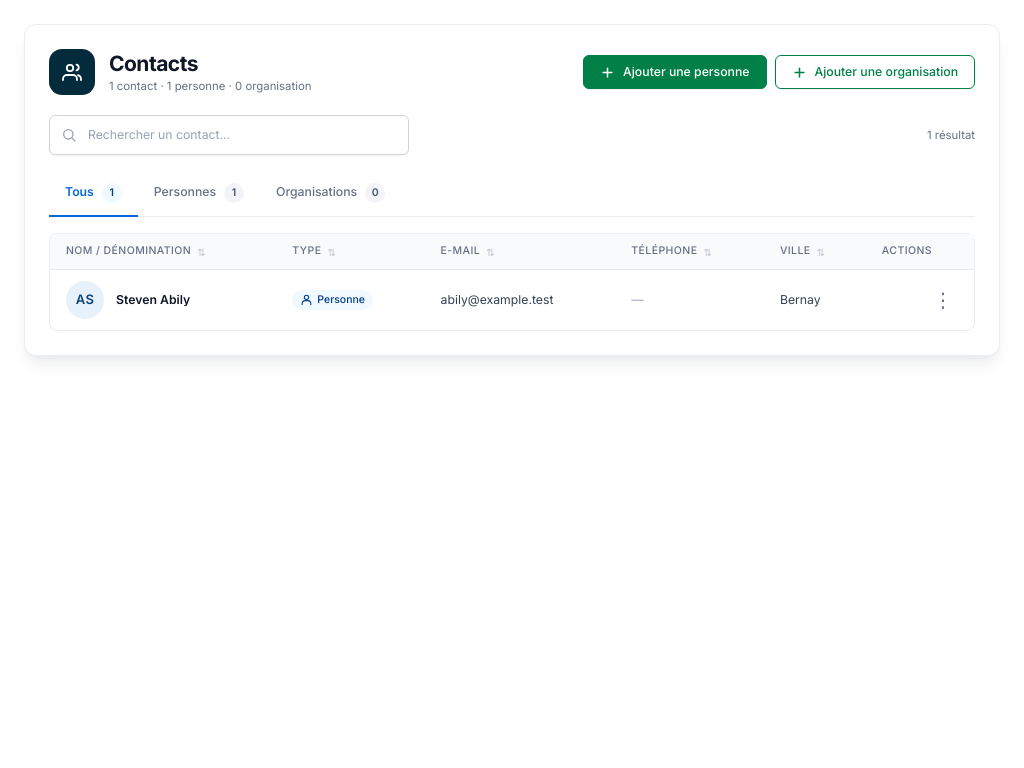
it: l’état vide permet de choisir puis lier réellement un dossier
expect the text "Steven Abily" is shown: met, box x1=116 y1=294 x2=190 y2=306
Click the button named "Actions du contact". click: point(943, 300)
box: x1=928 y1=285 x2=958 y2=315
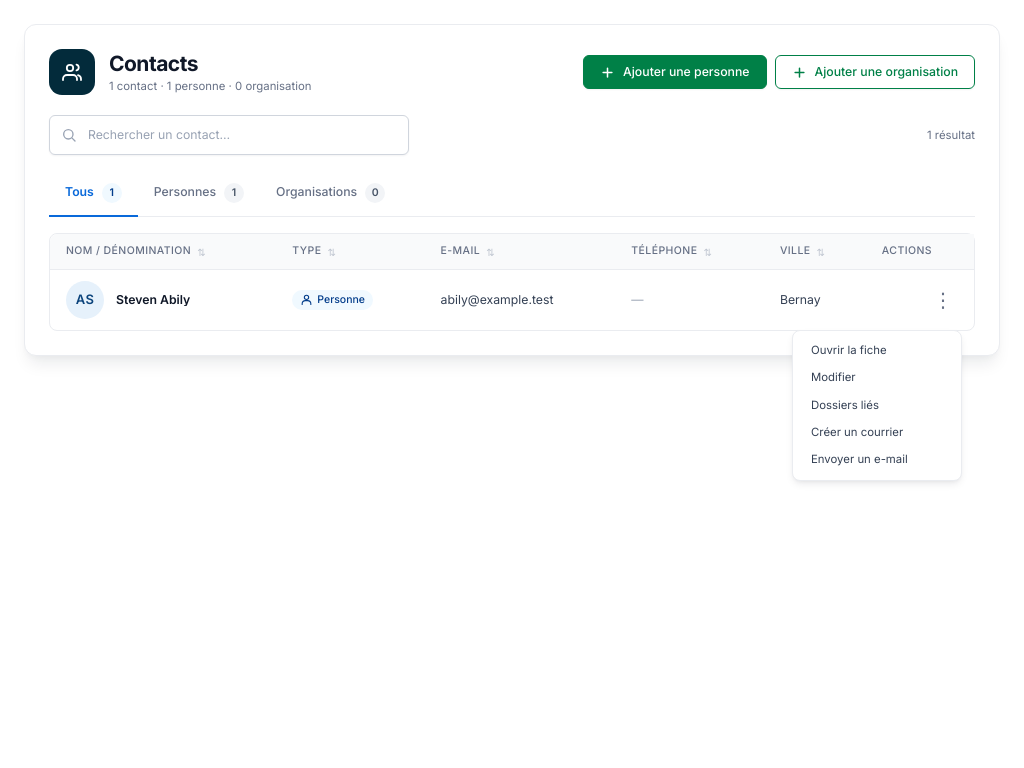
Click the button "Dossiers liés". click: point(877, 405)
box: x1=799 y1=392 x2=955 y2=419
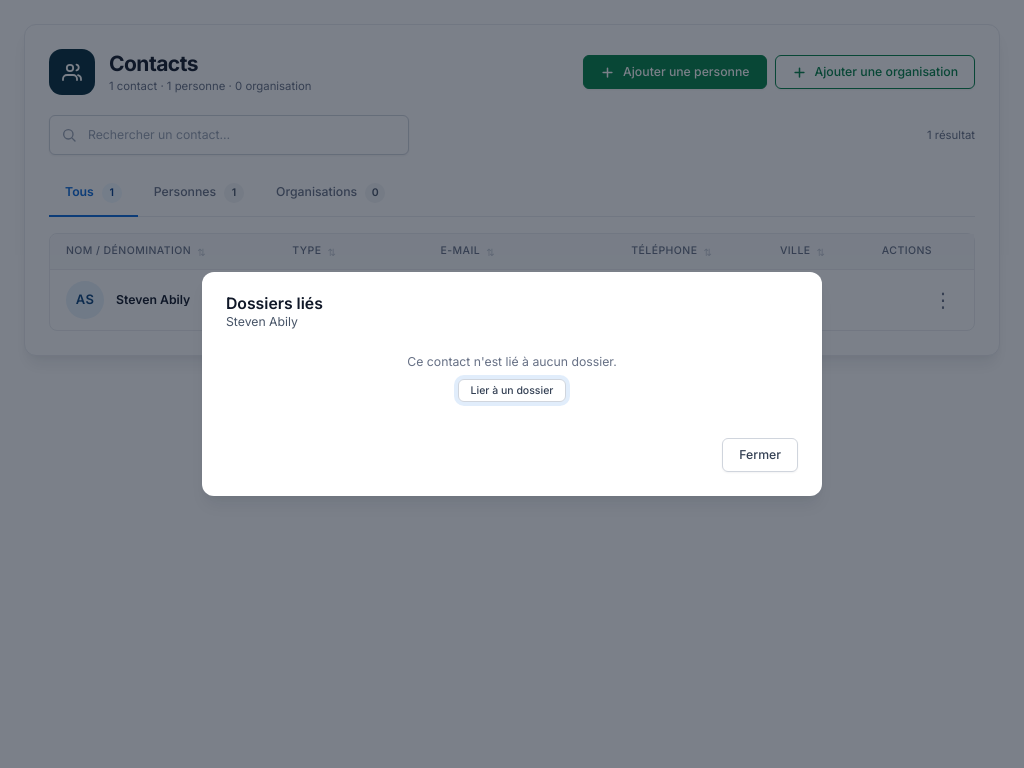
Click the button "Lier à un dossier". click: point(512, 391)
box: x1=458 y1=379 x2=566 y2=402
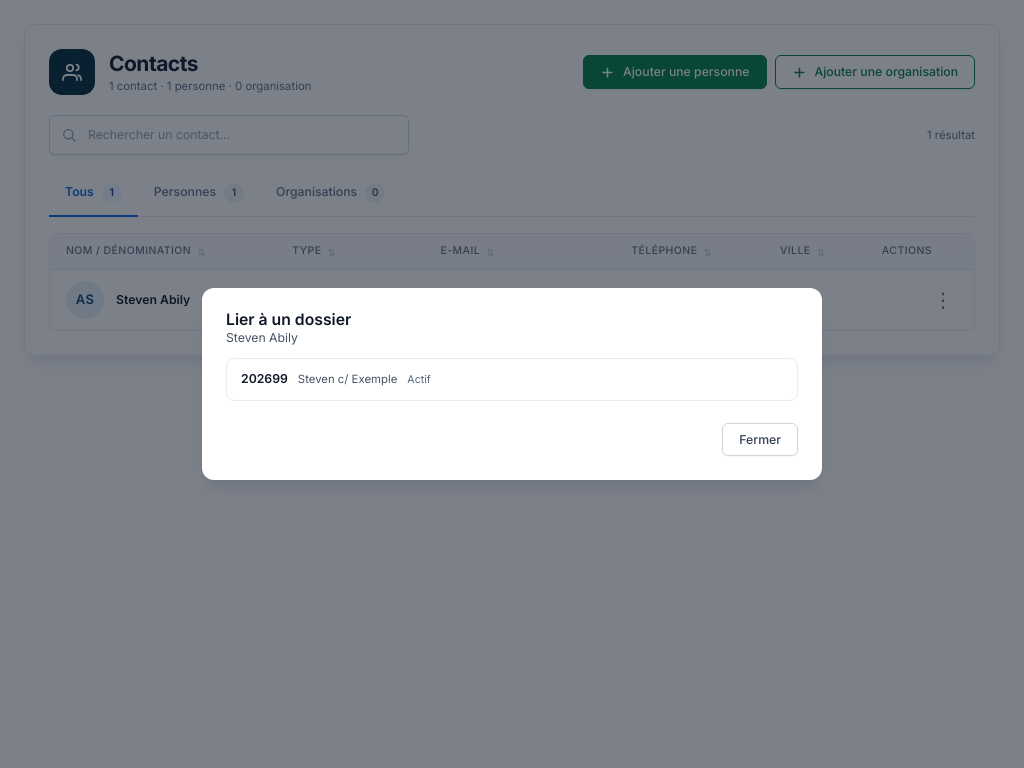
Click the button with aria-label "Lier le dossier 202699". click: point(336, 379)
box: x1=241 y1=371 x2=431 y2=386
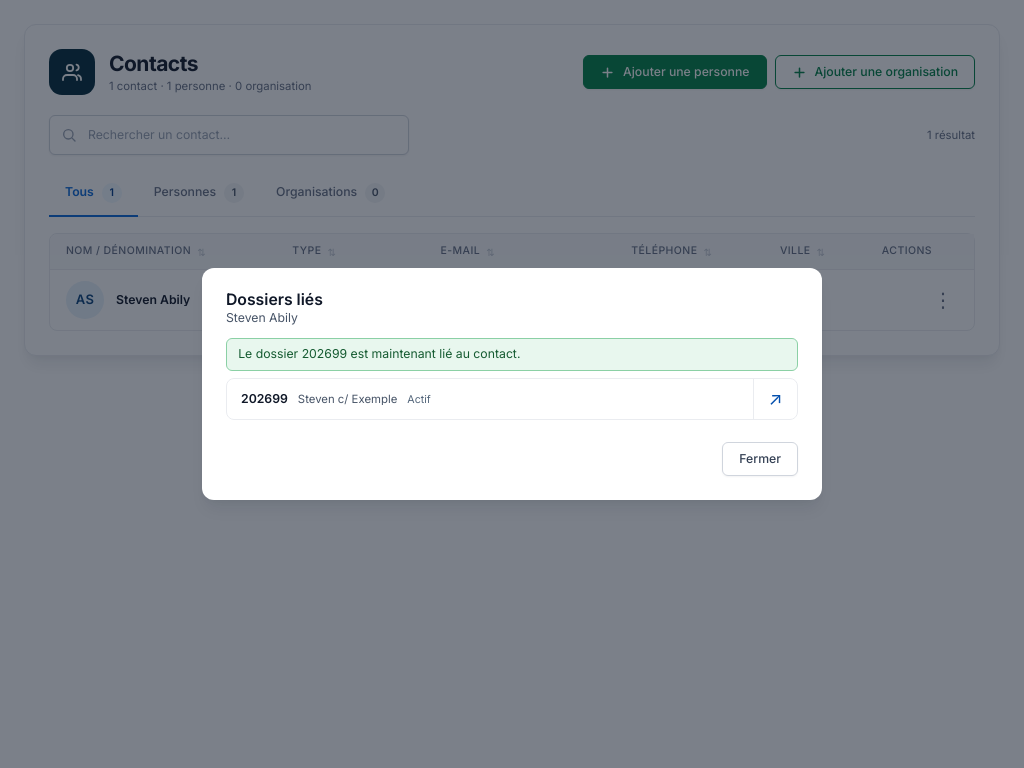
expect the text "Le dossier 202699 est maintenant lié au contact." is shown: met, box x1=226 y1=338 x2=798 y2=371
